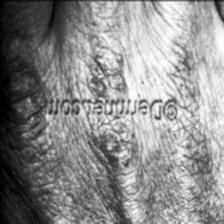Unclassified: (0, 53, 41, 143), (80, 50, 124, 96)
